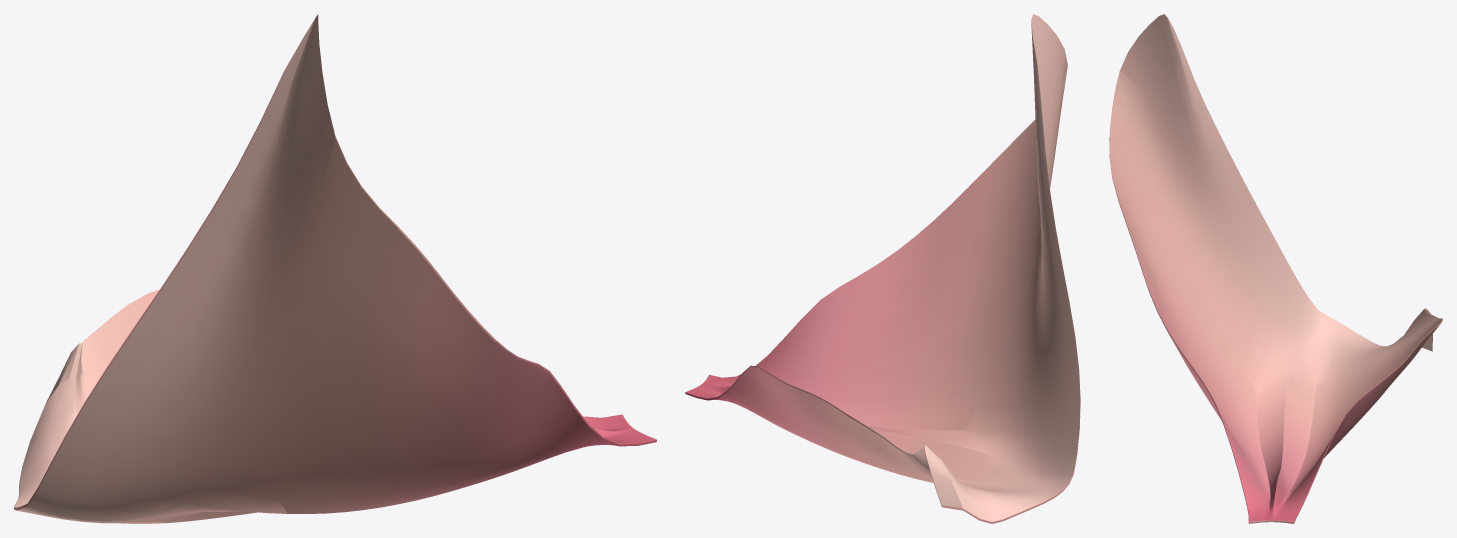
File: papri9.glb
3 renders of one model, left to right at view 1: azimuth 30°, elevation 25°; view 2: azimuth 150°, elevation 25°; view 3: azimuth 270°, elevation 25°, orthographic. The views are drawn at different scales.
Parts seen in each view (by area): view 1: Papri_09; view 2: Papri_09; view 3: Papri_09.
Boxes of the visible parts, box(x1,y1,x2,y2) form: Papri_09: box(14, 14, 656, 523); Papri_09: box(685, 14, 1080, 523); Papri_09: box(1109, 14, 1442, 523).
Size of the model in its own units: 0.9545 by 0.939 by 0.7196.
1 material, 1 textured.
